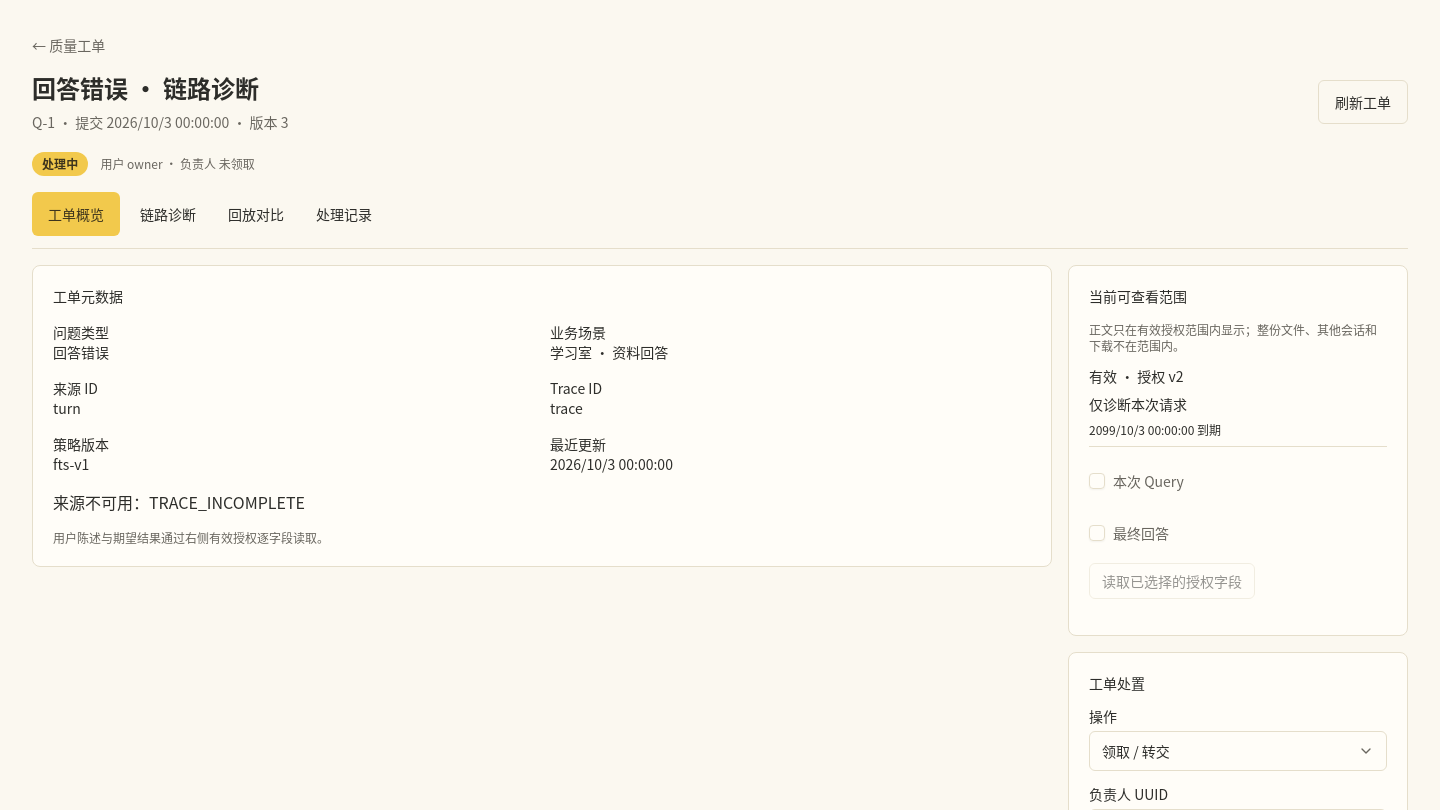
Test: 管理员质量视图 › 处置先清正文，结束后重新加载详情并使用真实版本键
Expected: the text "负责人 UUID" is shown, top-left (1089, 784), bottom-right (1168, 804)
Click the checkbox named "本次 Query" next to "本次 Query". click: x=1097, y=481
box: top-left (1089, 473), bottom-right (1105, 489)
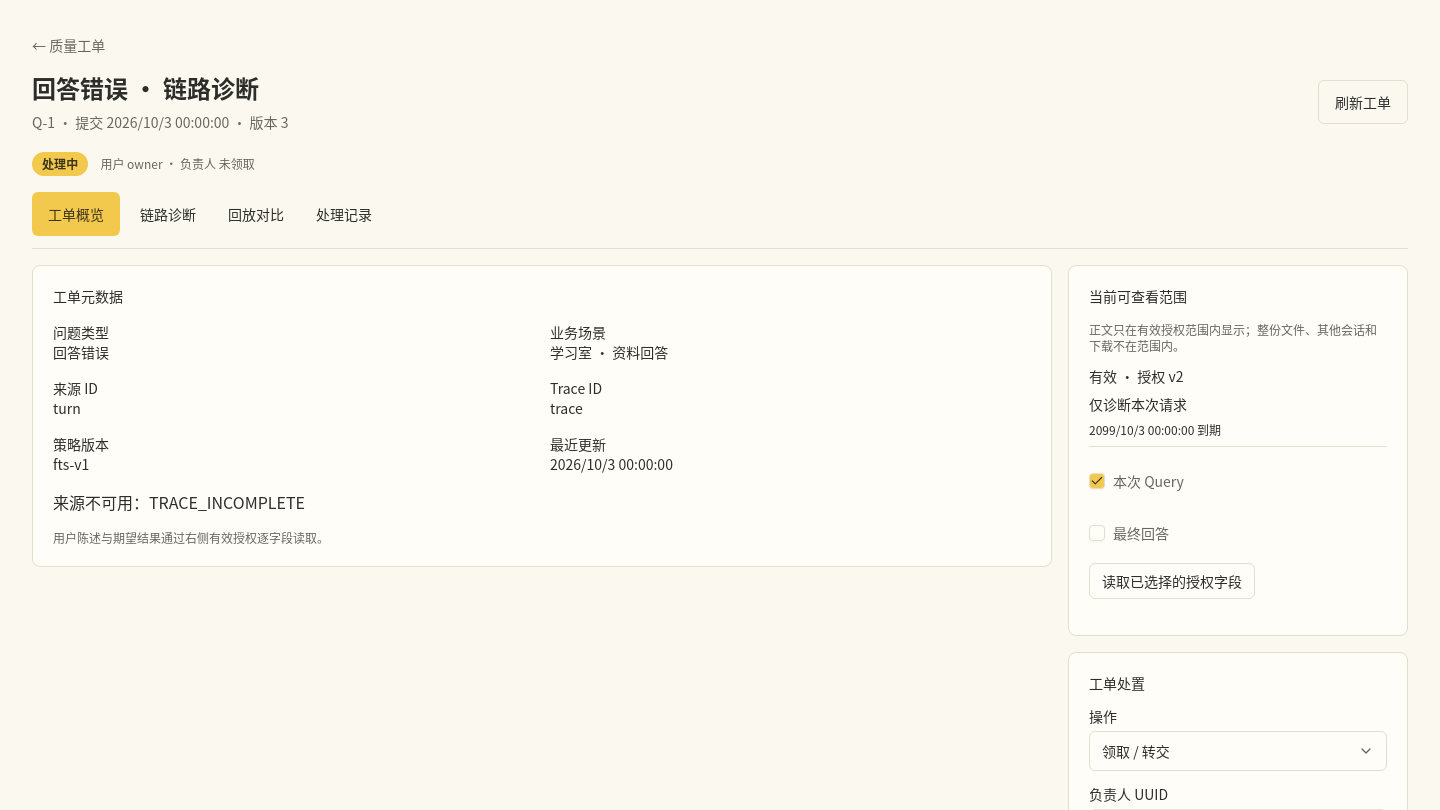
Click the button "读取已选择的授权字段". click: x=1172, y=581
box: top-left (1089, 563), bottom-right (1255, 599)
(page scrolled)
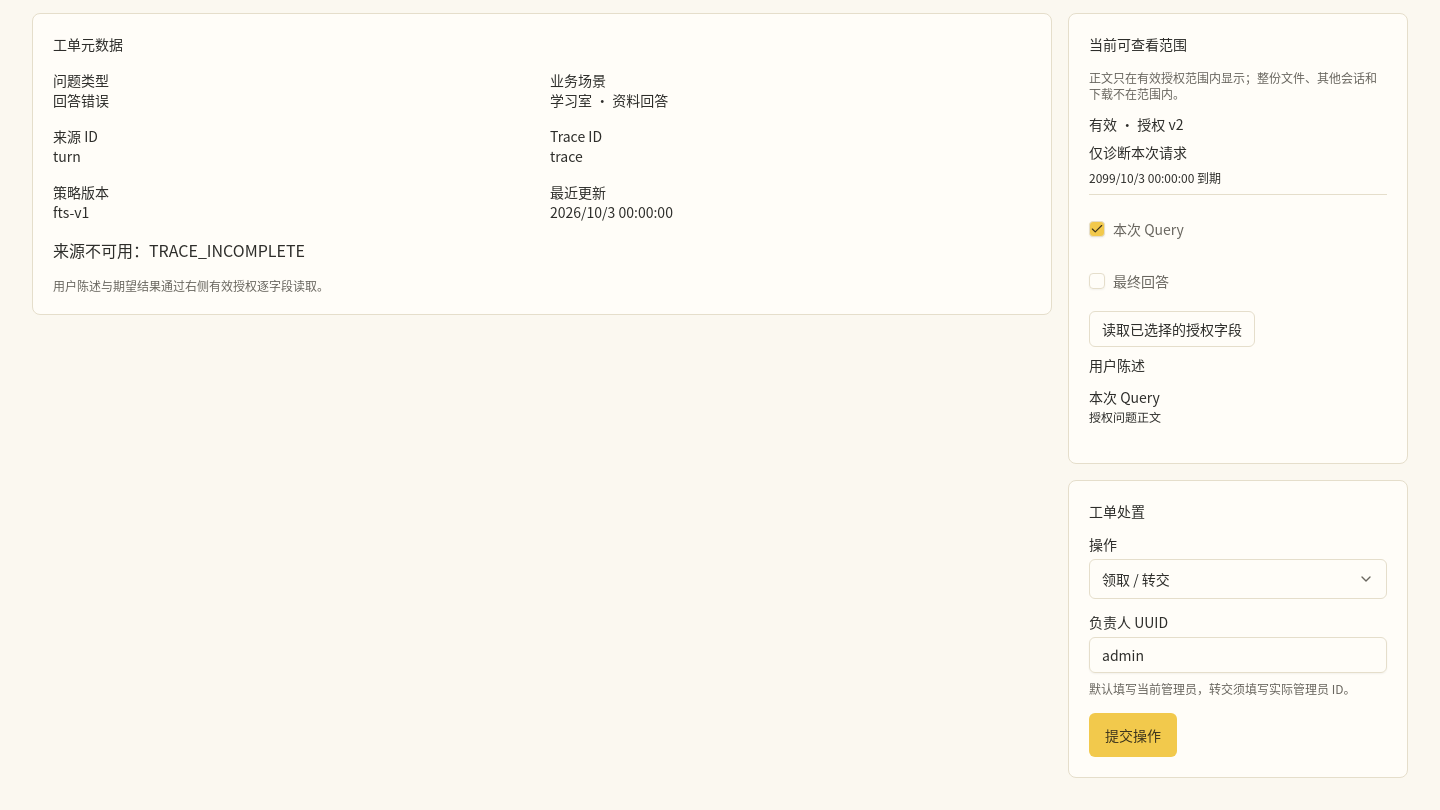
Expected: the text "授权问题正文" is shown, top-left (1089, 412), bottom-right (1161, 426)
Click the button "提交操作". click: x=1133, y=735
box: top-left (1089, 713), bottom-right (1177, 757)
(page scrolled)
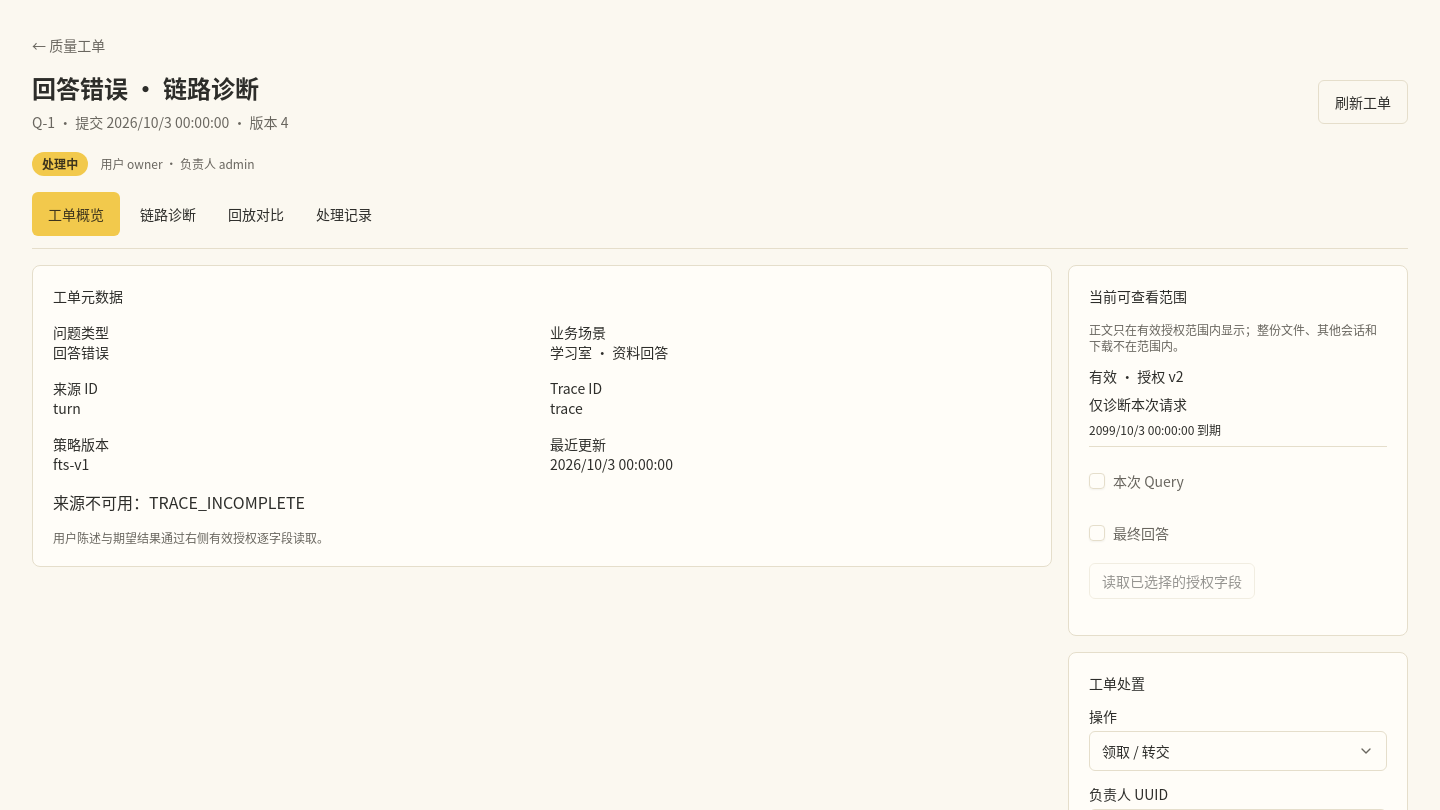
Expected: the text "授权问题正文" is gone
Expected: the text "Q-1 · 提交 2026/10/3 00:00:00 · 版本 4" is shown, top-left (32, 112), bottom-right (288, 132)
